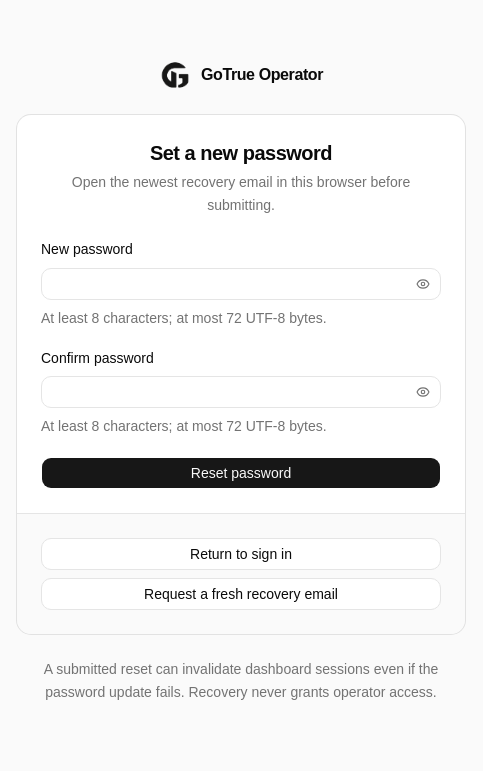
Scenario: same-browser recovery UI › blocks repeat reset after PASSWORD_RESET_SAME_PASSWORD and releases secrets
Type "valid-password" into the password field labelled "New password" at (225, 284), box [42, 268, 409, 300]
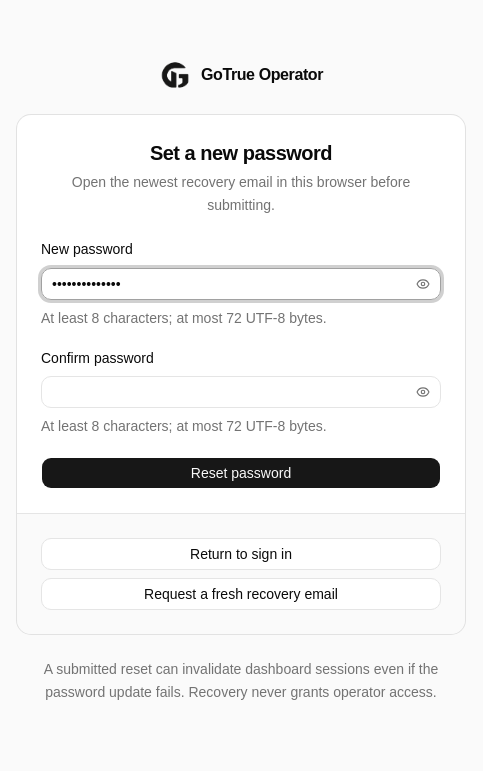
Type "valid-password" into the password field labelled "Confirm password" at (225, 392), box [42, 376, 409, 408]
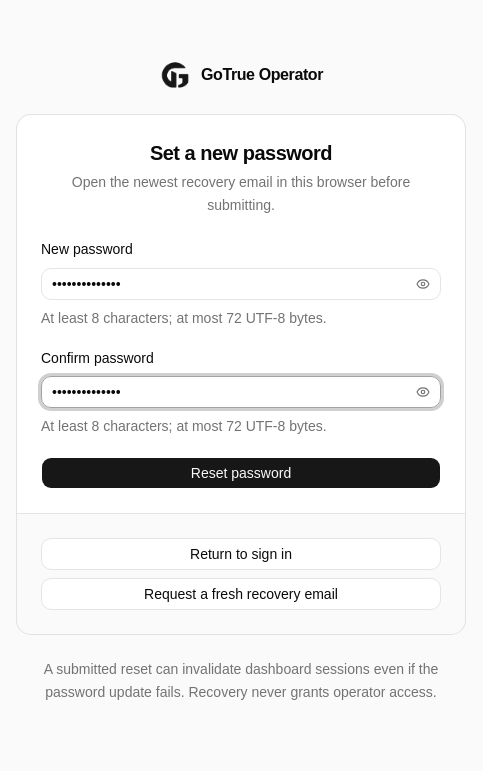
Click the button "Reset password" at (241, 473), box [41, 457, 441, 489]
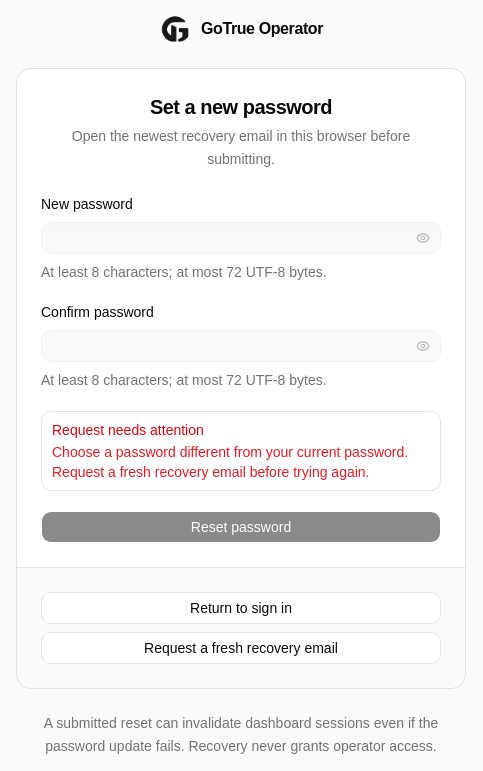
Expected: the message is shown, [41, 411, 441, 491]
Expected: the message shows "different from your current password", [52, 444, 408, 480]
Expected: the button "Reset password" is disabled, [41, 511, 441, 543]
